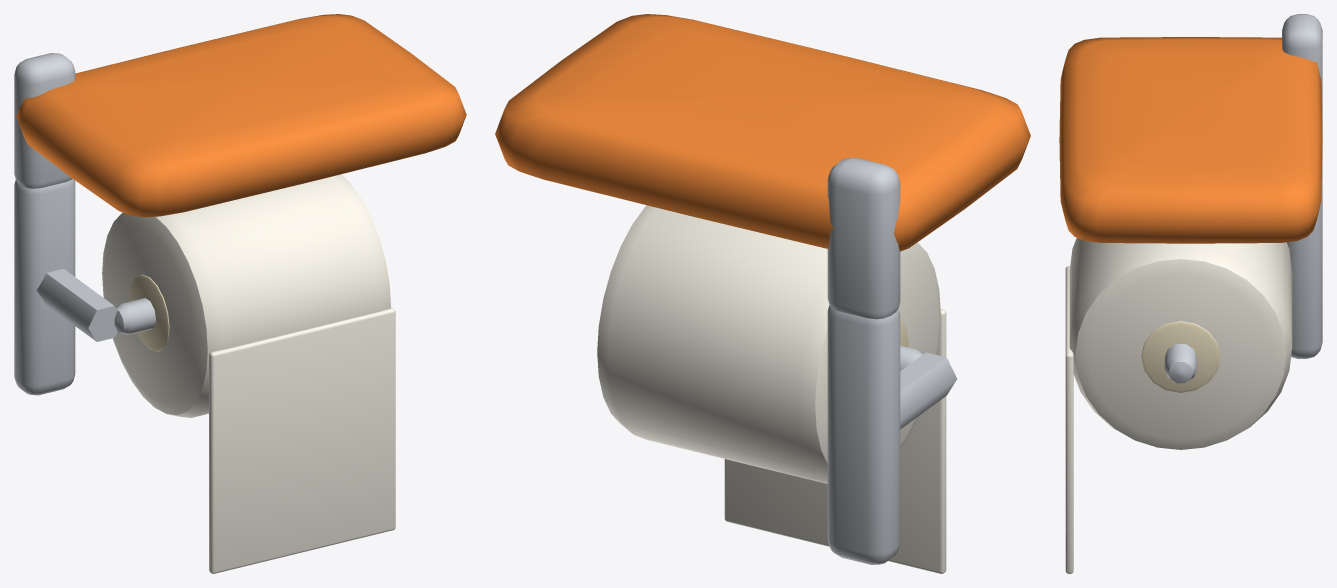
Rendered from porta_papel_tampa_laranja.glb.
3 renders of one model, left to right at view 1: azimuth 30°, elevation 25°; view 2: azimuth 150°, elevation 25°; view 3: azimuth 270°, elevation 25°, orthographic. The views are drawn at different scales.
Visible parts, largest first — view 1: porta_papel_tampa_laranja; view 2: porta_papel_tampa_laranja; view 3: porta_papel_tampa_laranja.
Boxes of the visible parts, bbox=[...] form: porta_papel_tampa_laranja: bbox=[14, 14, 466, 573]; porta_papel_tampa_laranja: bbox=[495, 14, 1030, 573]; porta_papel_tampa_laranja: bbox=[1059, 14, 1322, 573].
Bounding box in the file's own units: 0.2 × 0.24 × 0.13.
Materials: 1 (1 with a texture image).
